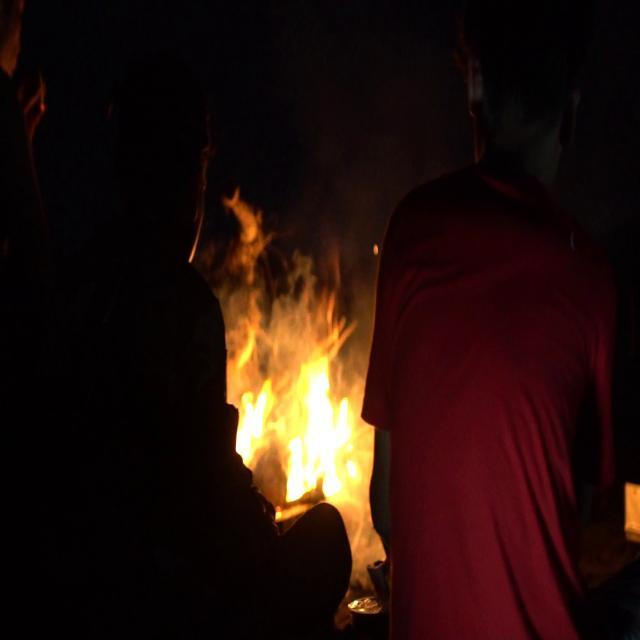Fire: (282, 346, 358, 510), (234, 368, 274, 462)
